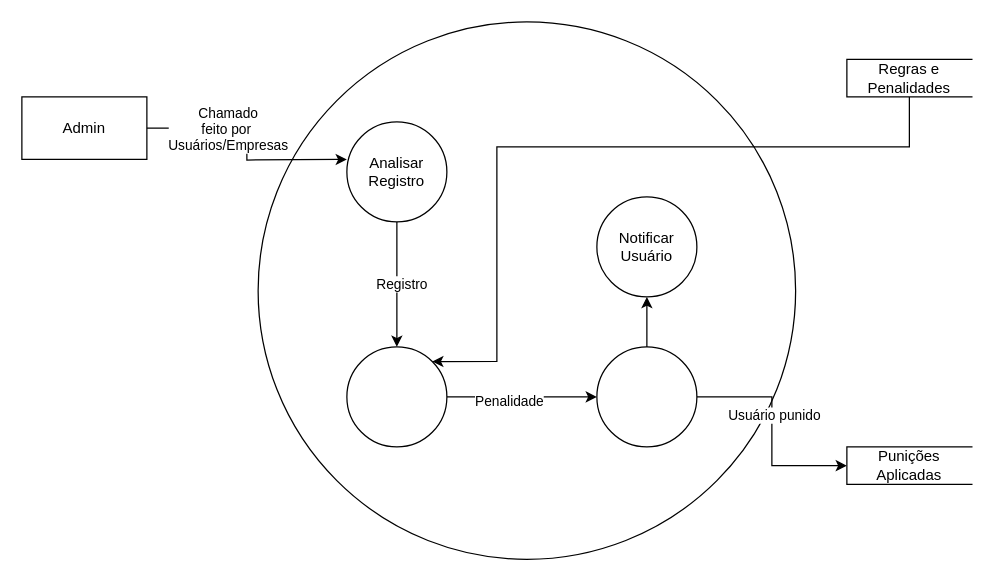
Some shapes in this 994 by 581 pixel diagram are drawn without their labels. Here are the shapes that lost their labels. From the top down, the box of each, then its label:
(346, 346, 447, 447): Consultar Regras e Penalidades
(596, 346, 697, 447): Aplicar Punições
